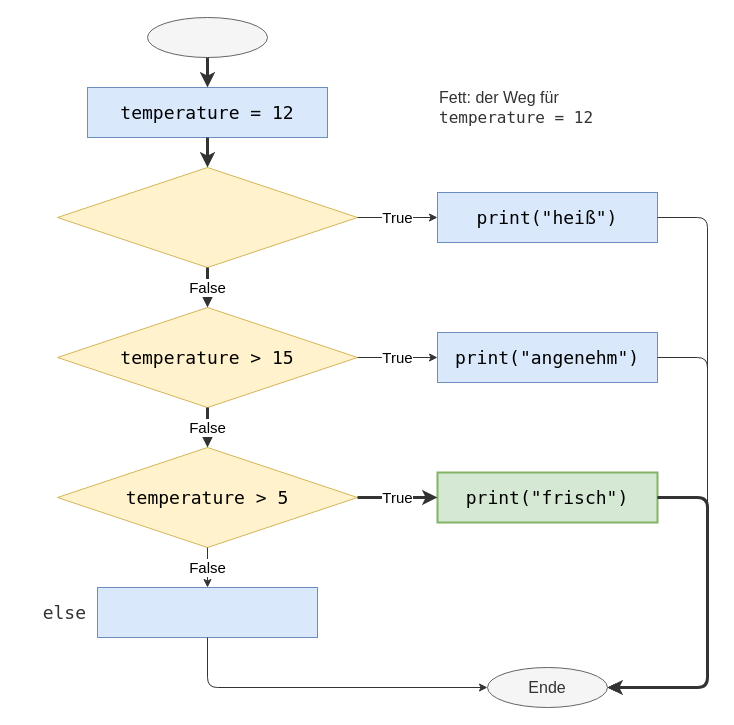
Image size: 734x725. Some labels were removed from this diagram. The shapes that lost their labels are listed below. From the top down, each one's centre as x and y in pixels, then its label:
point (207, 37): Start
point (207, 217): temperature > 25
point (207, 612): print("kalt")
